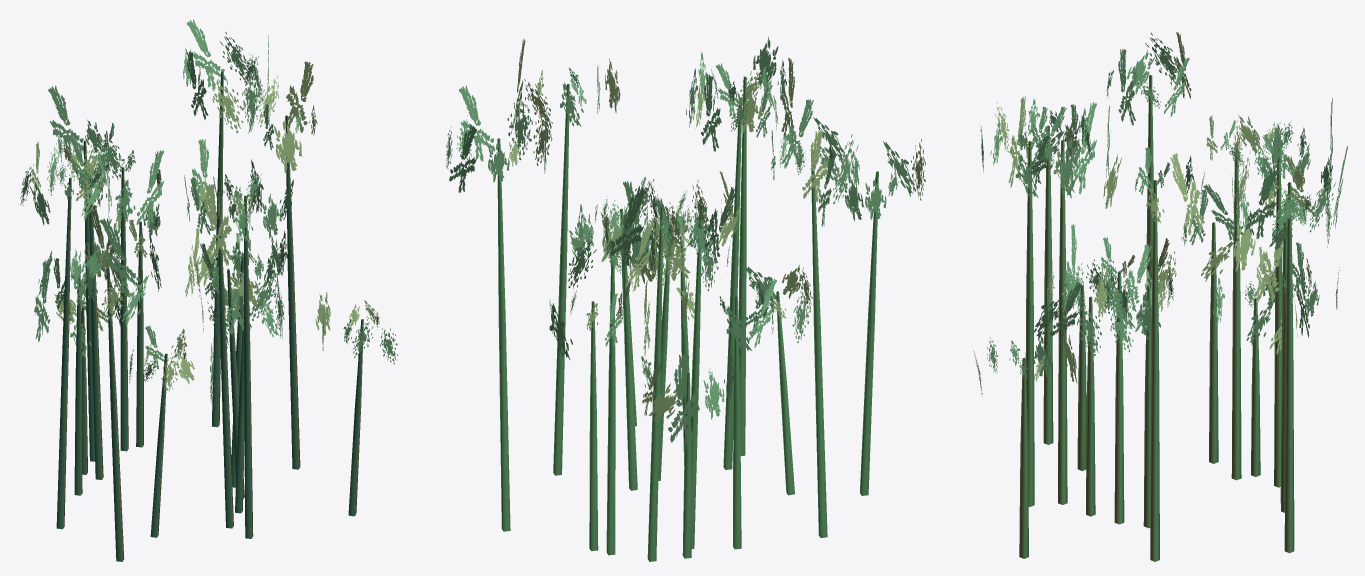
The model's file is Wetland_05_Cyperus.glb.
3 views of the same model, side by side, from view 1: azimuth 30°, elevation 25°; view 2: azimuth 150°, elevation 25°; view 3: azimuth 270°, elevation 25° (orthographic). The views are drawn at different scales.
Parts seen in each view (by area): view 1: Wetland_05_Cyperus; view 2: Wetland_05_Cyperus; view 3: Wetland_05_Cyperus.
Part boxes in pixels (x1,y1,x2,y2): Wetland_05_Cyperus: [20, 19, 397, 561]; Wetland_05_Cyperus: [446, 36, 925, 561]; Wetland_05_Cyperus: [973, 32, 1348, 561].
Size of the model in its own units: 1.42 by 1.72 by 1.42.
2 materials, 1 textured.
